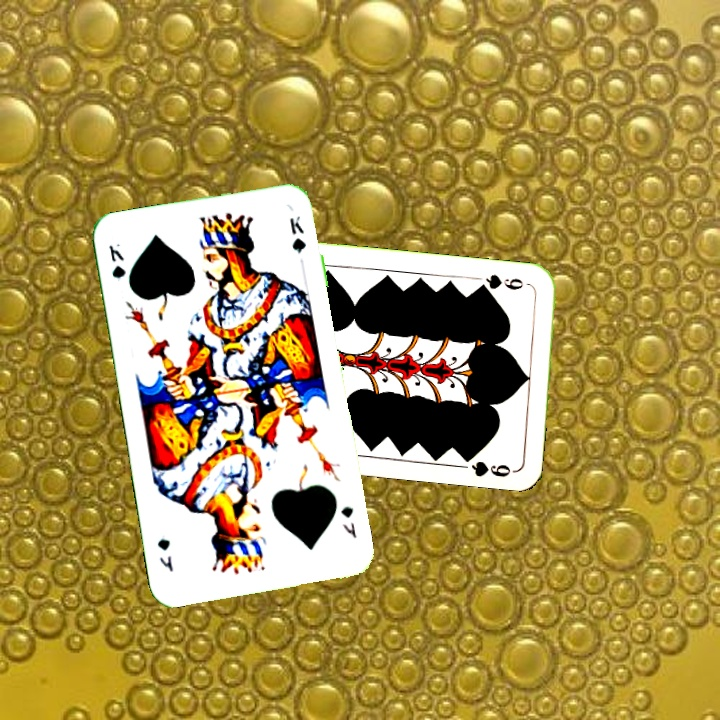G9: (474, 270, 526, 293)
GK: (104, 239, 129, 281), (336, 502, 360, 541)
